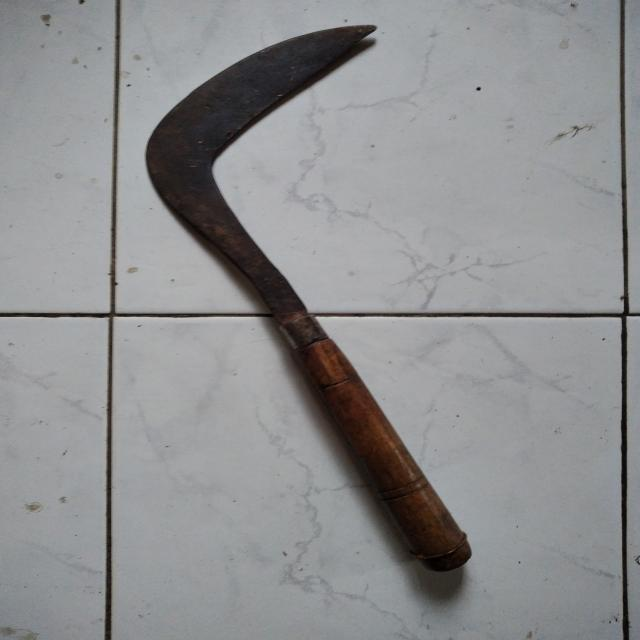Celurit: (145, 27, 481, 570)
